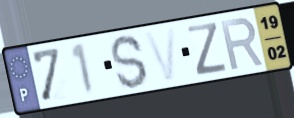1: (70, 40, 95, 98)
7: (29, 46, 64, 104)
R: (218, 15, 266, 73)
S: (108, 33, 150, 91)
V: (141, 25, 178, 84)
Z: (185, 20, 229, 78)
